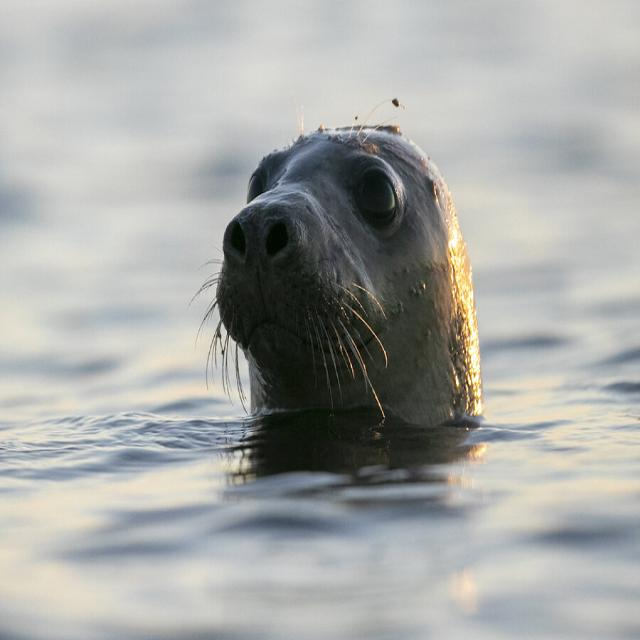WaterDog: (180, 118, 478, 442)
